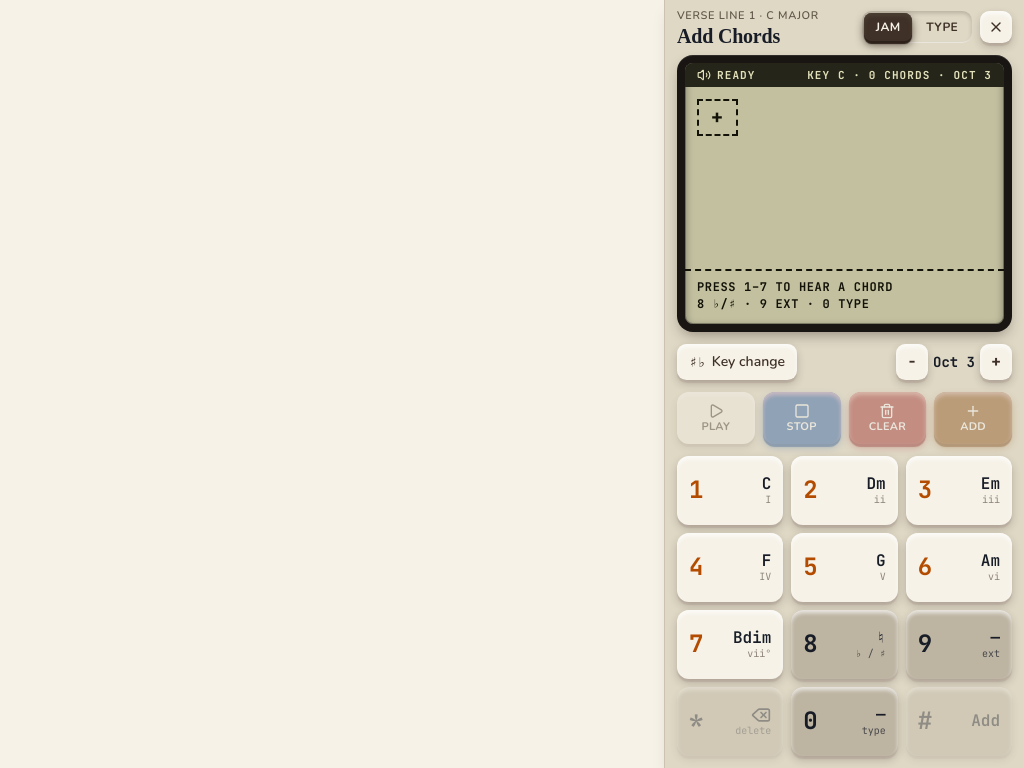
JamCanvas › Play needs a capture and Stop needs something playing
Expected: the button with aria-label "Play capture" is disabled, [677, 392, 755, 444]
Expected: the button "Stop" is disabled, [763, 392, 841, 444]
Click the button named "1, ": (730, 490) [677, 456, 783, 525]
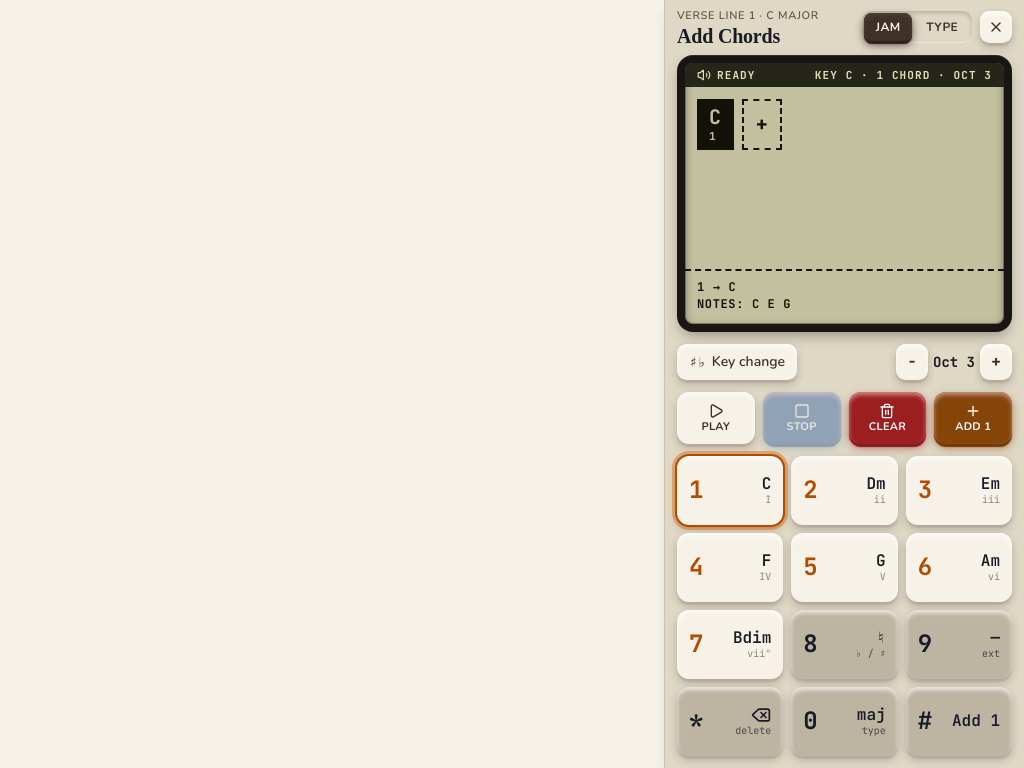
Click the button named "5, ": (844, 567) [791, 533, 898, 602]
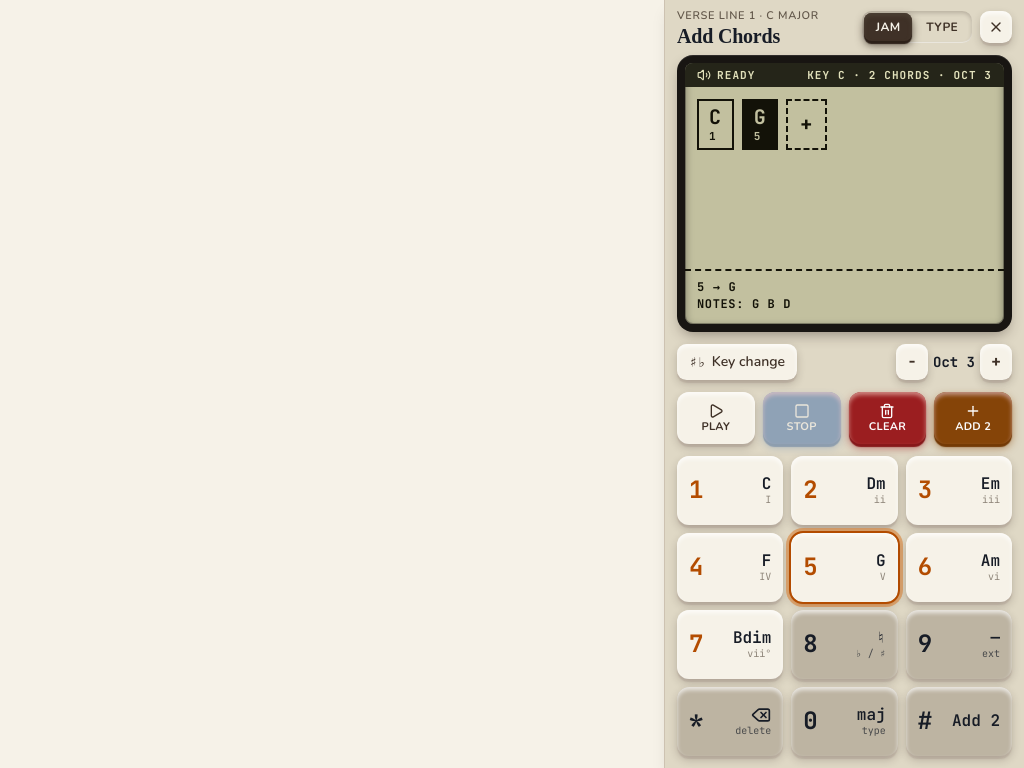
Expected: the button with aria-label "Play capture" is enabled
Click the button with aria-label "Play capture": (716, 418) [677, 392, 755, 444]
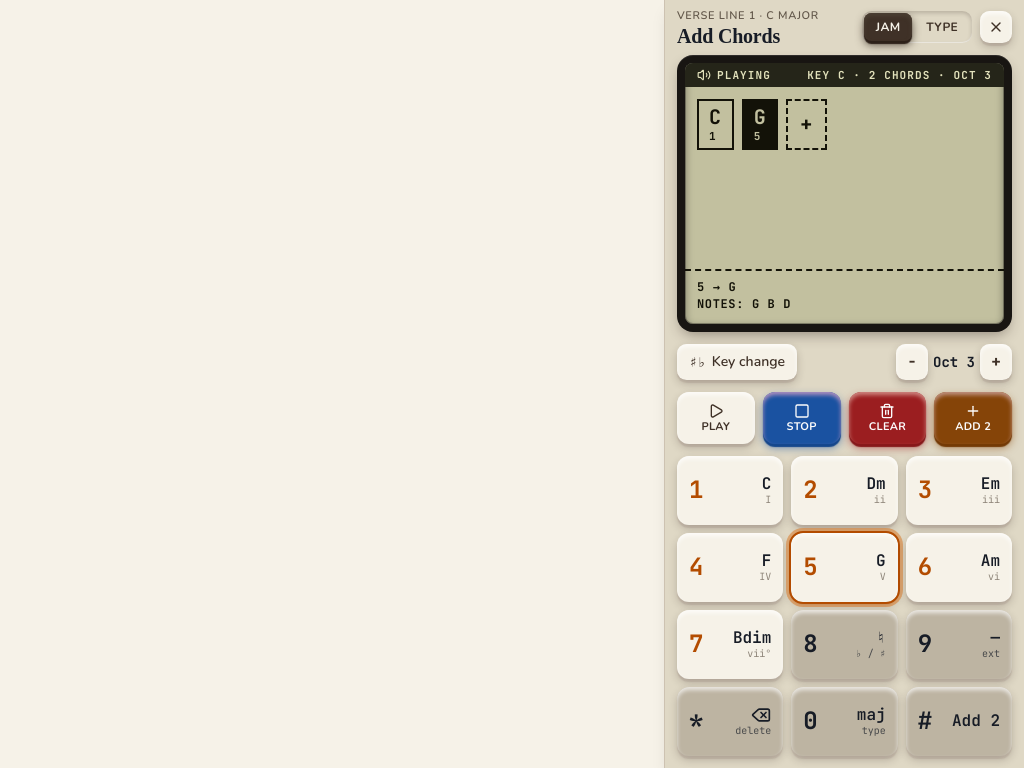
Expected: the button "Stop" is enabled
Click the button "Stop": (802, 418) [763, 392, 841, 444]
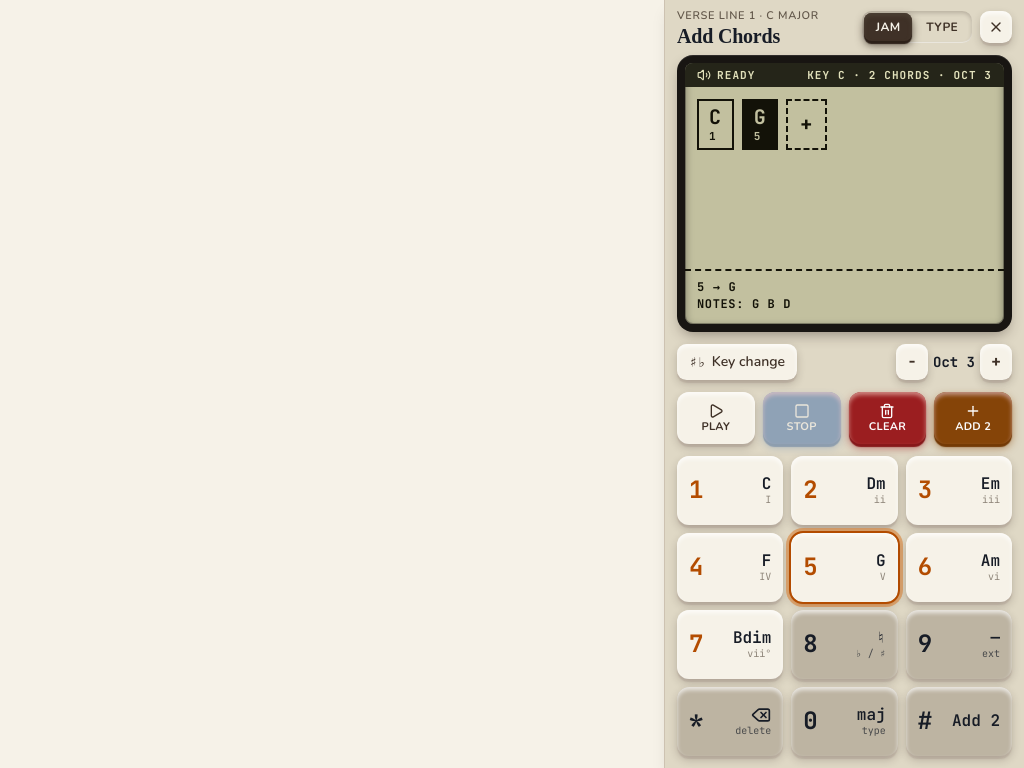
Expected: the button "Stop" is disabled, [763, 392, 841, 444]
